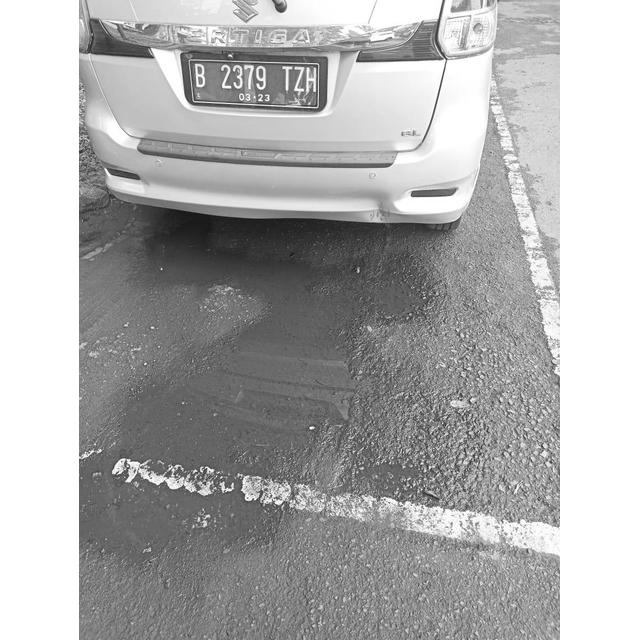license: (191, 61, 317, 104)
